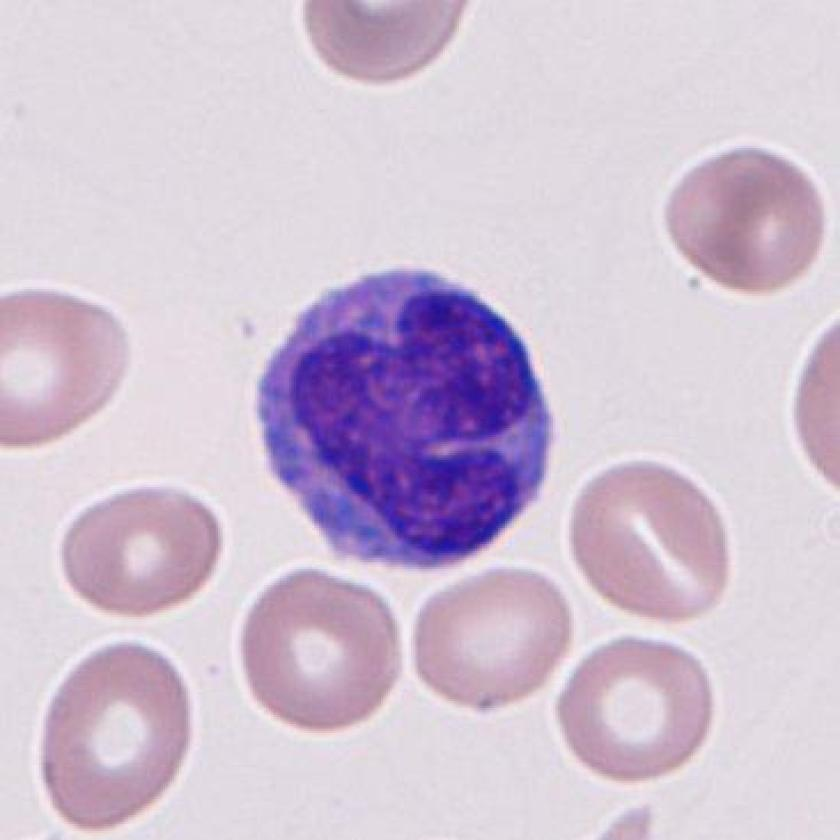monocyte: (242, 240, 577, 586)
